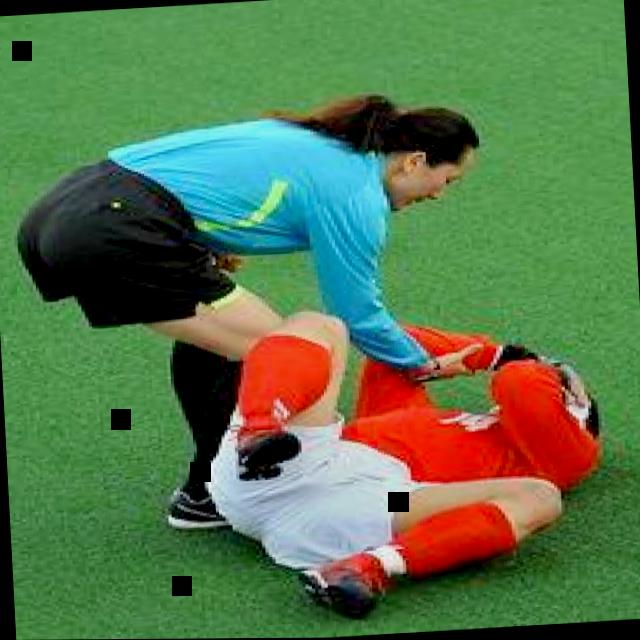Fall-Detected: (205, 276, 618, 631)
